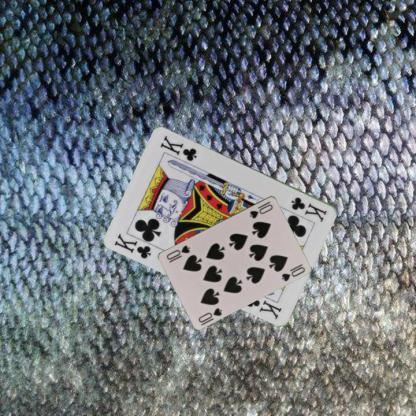10s: (247, 198, 274, 220), (196, 305, 223, 324)
Kc: (112, 231, 153, 260), (289, 194, 329, 223)
